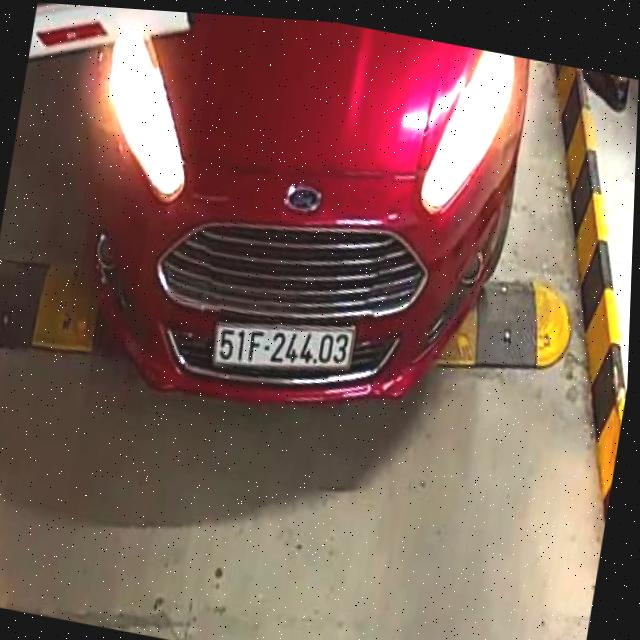car: (17, 2, 551, 465)
plate: (205, 306, 368, 391)
